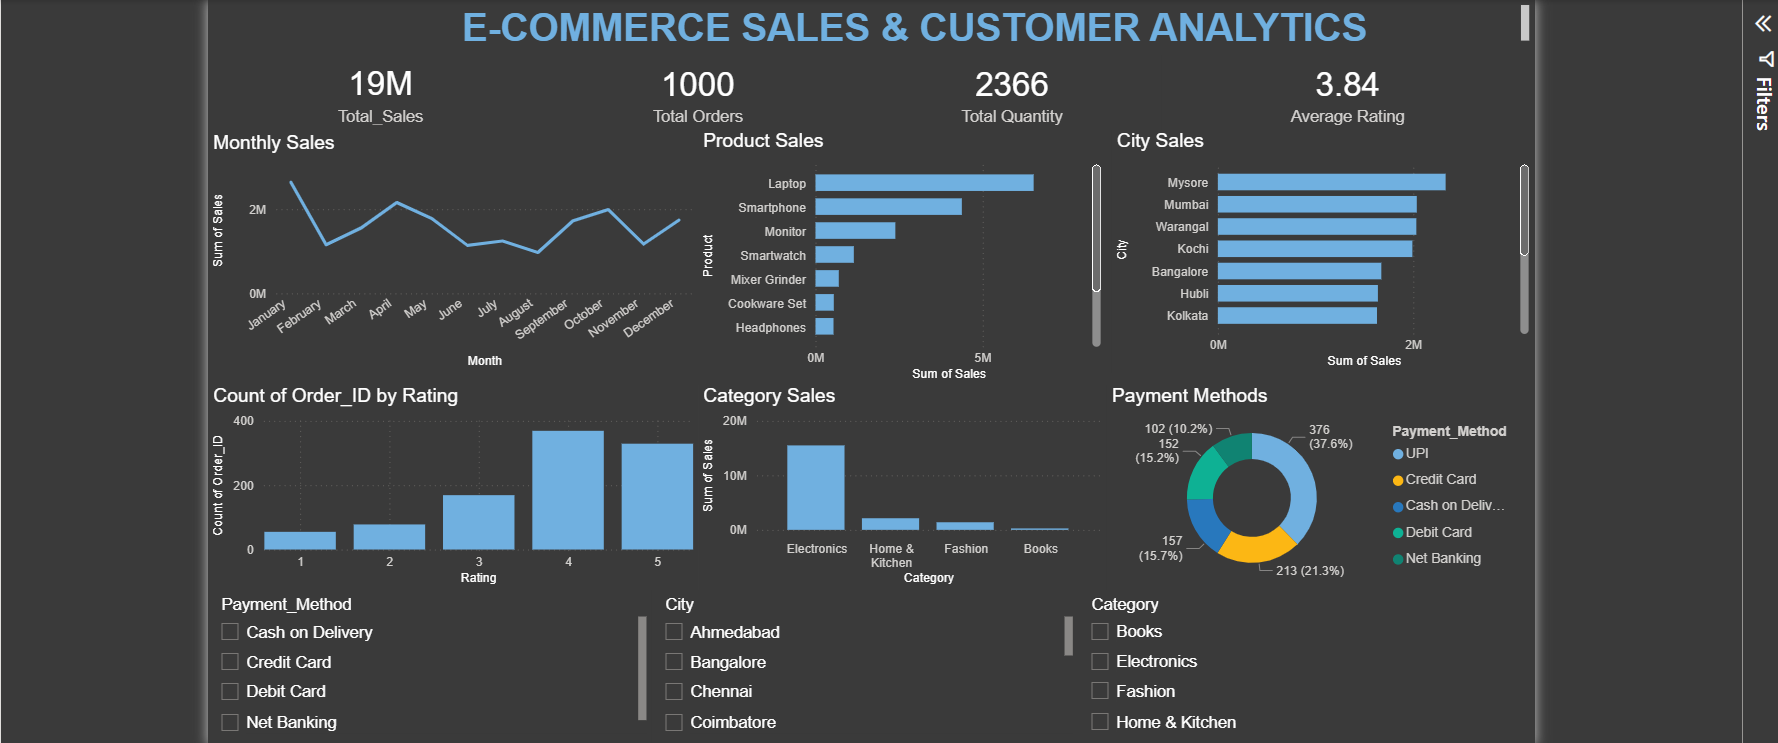

The dashboard page shown, as its layout file describes it:
{"tool":"powerbi","page":{"name":"Page 1","canvas":[1280,720],"ordinal":0},"visuals":[{"type":"card","fields":{"Values":["ecommerce_sales_cleaned.Total Orders"]},"box":[333.4,53.5,279.9,72.7],"z":0},{"type":"card","fields":{"Values":["ecommerce_sales_cleaned.Total Quantity"]},"box":[623,53.5,307.4,72.7],"z":1000},{"type":"card","fields":{"Values":["ecommerce_sales_cleaned.Total_Sales"]},"box":[0,53.5,333.4,72],"z":2000},{"type":"card","fields":{"Values":["ecommerce_sales_cleaned.Average Rating"]},"box":[920.8,53.5,359.5,72.7],"z":3000},{"type":"lineChart","title":"Monthly Sales","fields":{"Category":["ecommerce_sales_cleaned.Order_Date.Variation.Date Hierarchy.Month"],"Y":["Sum(ecommerce_sales_cleaned.Sales)"]},"box":[0,126.2,473.4,233.3],"z":4000},{"type":"barChart","title":"Product Sales","fields":{"Category":["ecommerce_sales_cleaned.Product"],"Y":["Sum(ecommerce_sales_cleaned.Sales)"]},"box":[473.4,124.9,393.8,247],"z":5000},{"type":"columnChart","title":"Category Sales","fields":{"Category":["ecommerce_sales_cleaned.Category"],"Y":["Sum(ecommerce_sales_cleaned.Sales)"]},"box":[473.4,371.9,393.8,197.6],"z":6000},{"type":"barChart","title":"City Sales","fields":{"Category":["ecommerce_sales_cleaned.City"],"Y":["Sum(ecommerce_sales_cleaned.Sales)"]},"box":[872.7,124.9,407.5,234.6],"z":7000},{"type":"columnChart","fields":{"Category":["ecommerce_sales_cleaned.Rating"],"Y":["CountNonNull(ecommerce_sales_cleaned.Order_ID)"]},"box":[0,371.9,473.4,197.6],"z":8000},{"type":"donutChart","title":"Payment Methods","fields":{"Category":["ecommerce_sales_cleaned.Payment_Method"],"Y":["CountNonNull(ecommerce_sales_cleaned.Order_ID)"]},"box":[867.2,371.9,407.5,197.6],"z":9000},{"type":"slicer","fields":{"Values":["ecommerce_sales_cleaned.Category"]},"box":[839.8,569.5,440.5,150.9],"z":11000},{"type":"slicer","fields":{"Values":["ecommerce_sales_cleaned.City"]},"box":[428.1,569.5,411.7,150.9],"z":12000},{"type":"slicer","fields":{"Values":["ecommerce_sales_cleaned.Payment_Method"]},"box":[0,569.5,428.1,150.9],"z":13000},{"type":"textbox","box":[0,0,1280.3,48],"z":14000}]}

Visuals, with their boxes on the page's 1280x720 design canvas (x1, y1, x2, y2). These are canvas units, not pixel positions in the 1778x743 screenshot, which may show the page scaled, cropped or inside an application window:
card - ecommerce_sales_cleaned.Total Orders: 333, 54, 613, 126
card - ecommerce_sales_cleaned.Total Quantity: 623, 54, 930, 126
card - ecommerce_sales_cleaned.Total_Sales: 0, 54, 333, 126
card - ecommerce_sales_cleaned.Average Rating: 921, 54, 1280, 126
"Monthly Sales" lineChart: 0, 126, 473, 360
"Product Sales" barChart: 473, 125, 867, 372
"Category Sales" columnChart: 473, 372, 867, 570
"City Sales" barChart: 873, 125, 1280, 360
columnChart - ecommerce_sales_cleaned.Rating x CountNonNull(ecommerce_sales_cleaned.Order_ID): 0, 372, 473, 570
"Payment Methods" donutChart: 867, 372, 1275, 570
slicer - ecommerce_sales_cleaned.Category: 840, 570, 1280, 720
slicer - ecommerce_sales_cleaned.City: 428, 570, 840, 720
slicer - ecommerce_sales_cleaned.Payment_Method: 0, 570, 428, 720
textbox: 0, 0, 1280, 48
